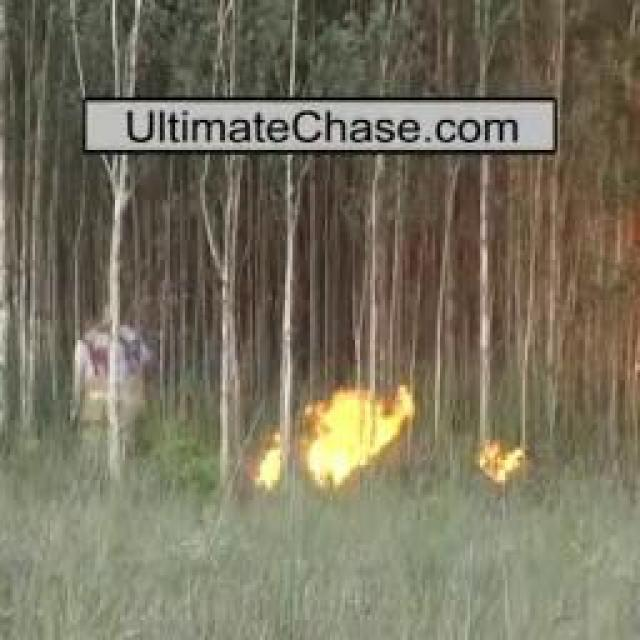Fire: (248, 399, 425, 492), (473, 441, 536, 486)
